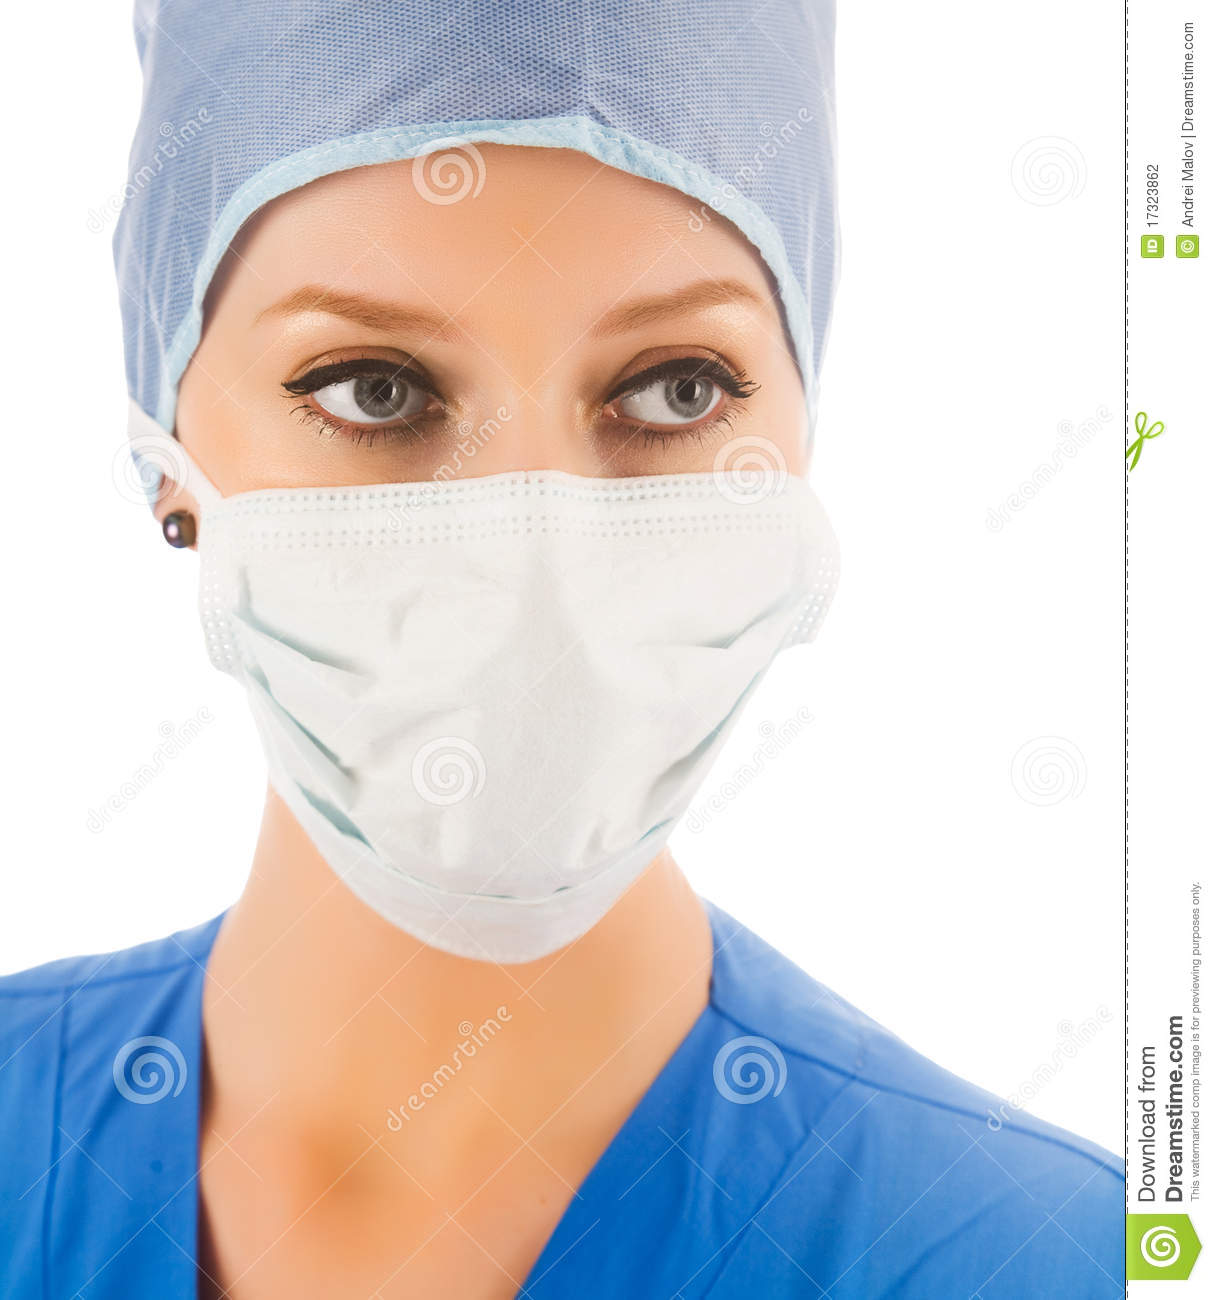mask: (193, 489, 879, 953)
